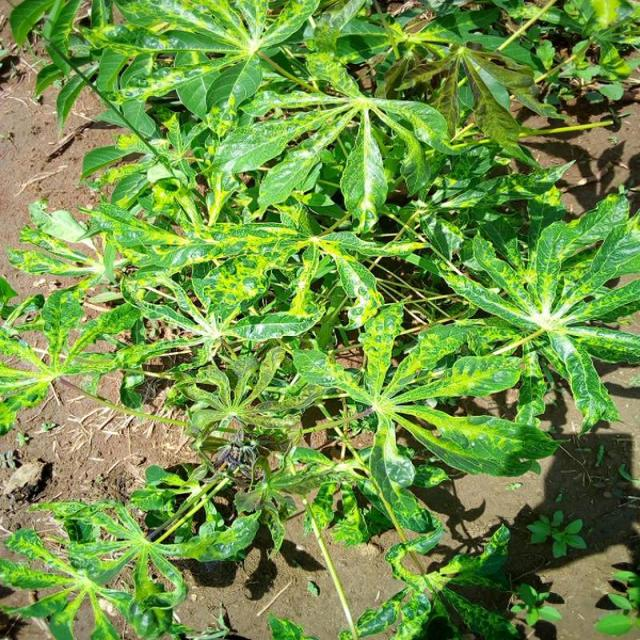cassava leaf: (1, 1, 638, 637), (432, 185, 638, 435)
